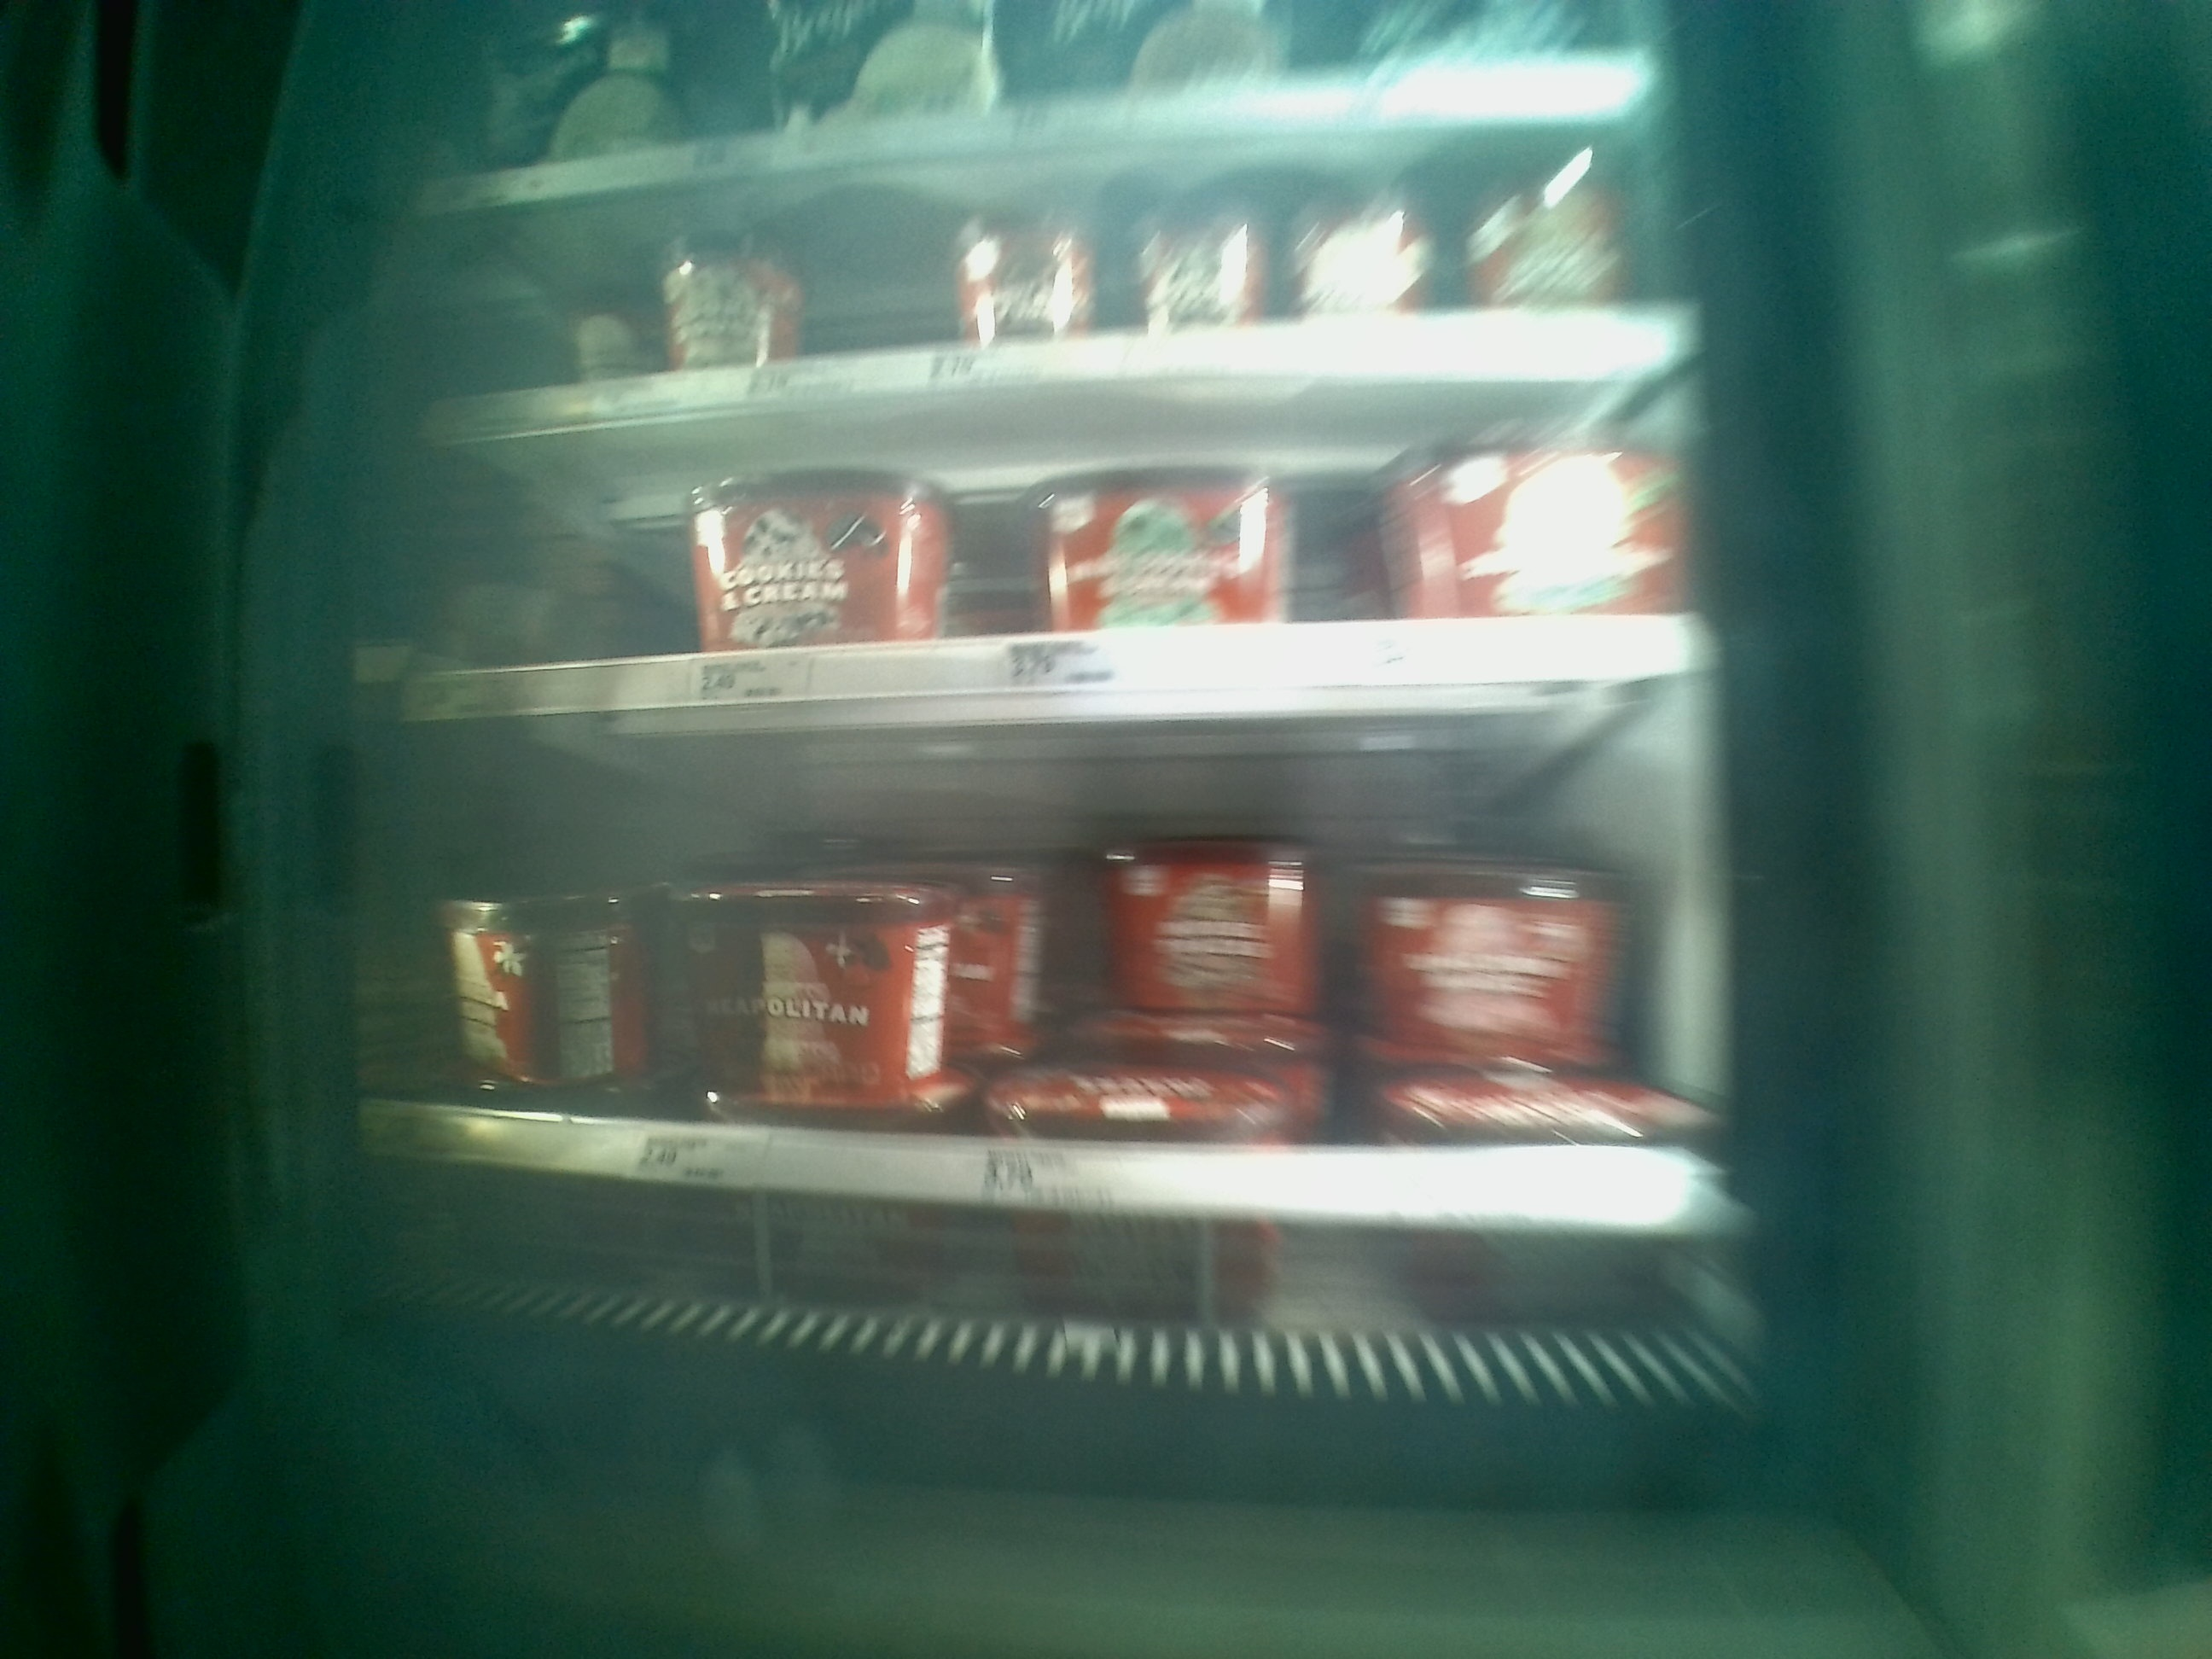shelf: (399, 683, 1740, 1298), (401, 380, 1702, 723)
